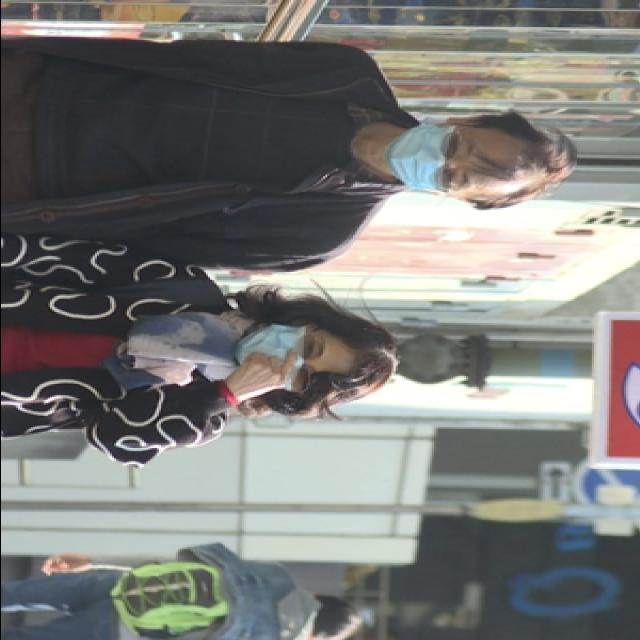mask: (228, 323, 328, 395), (390, 123, 480, 200)
